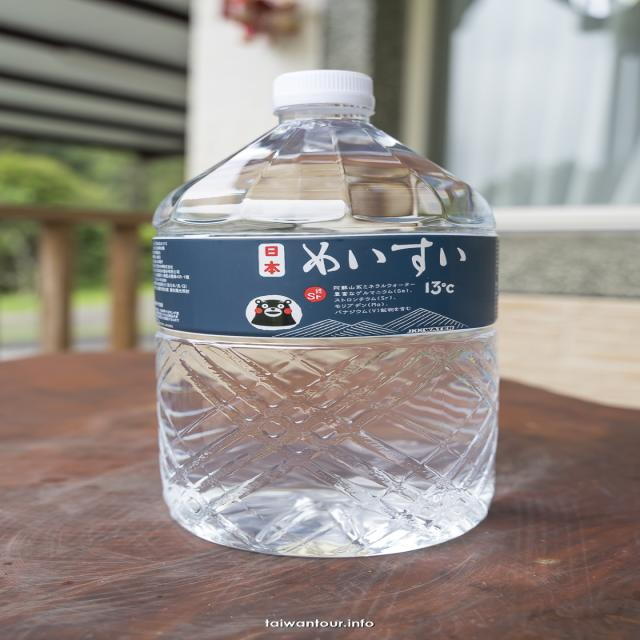plastic: (151, 69, 504, 557)
